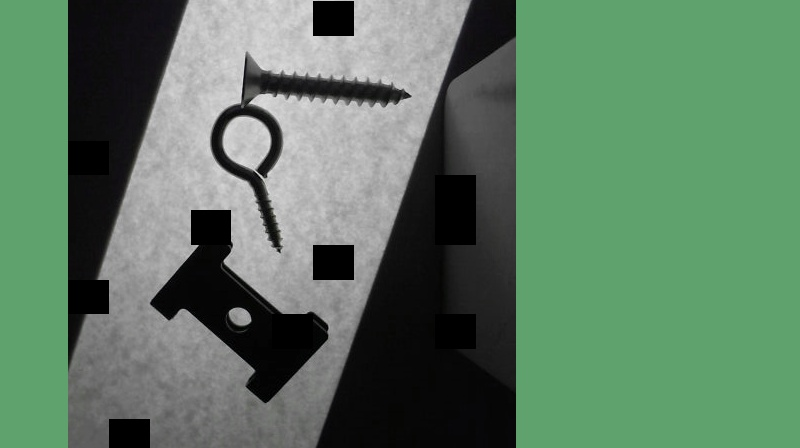O001: (208, 102, 285, 251)
O002: (146, 223, 329, 404)
S001: (236, 49, 413, 112)
